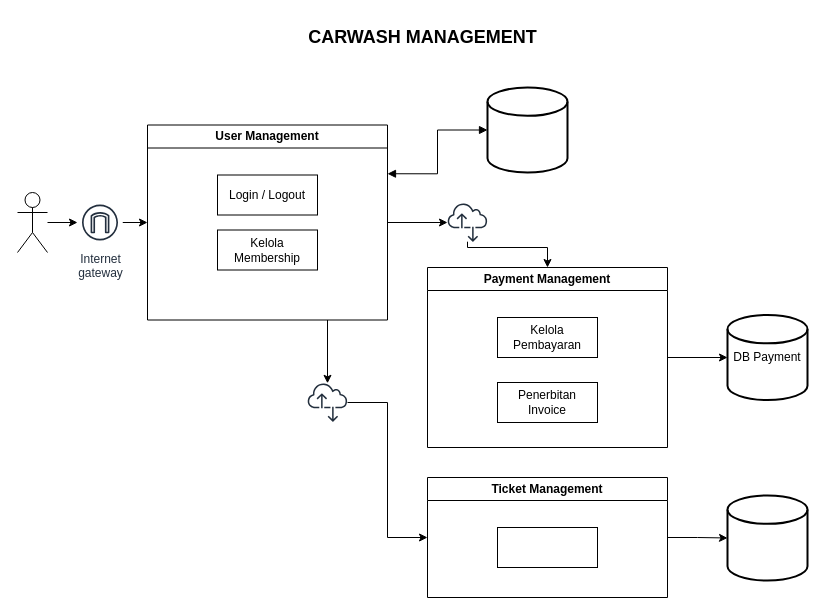
Some shapes in this 826 by 615 pixel diagram are drawn without their labels. The centre of each missing label's shape, as x and y in pixels:
"Actor" goes at (32,222).
"Database User" goes at (527,129).
"DB Ticket" goes at (767,537).
"Kelola Aduan" goes at (547,547).
